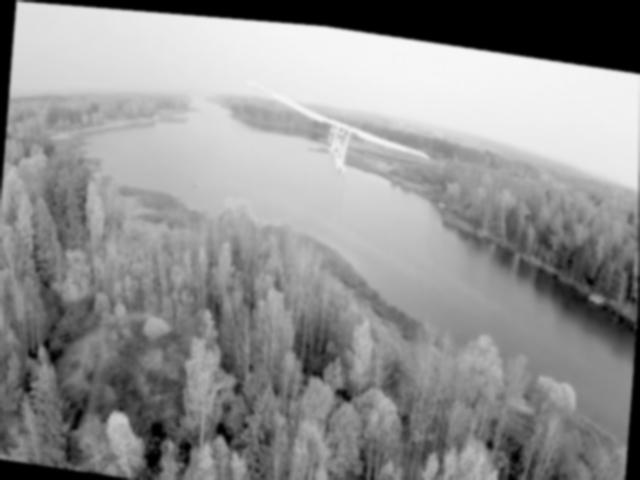hedef: (241, 66, 437, 198)
